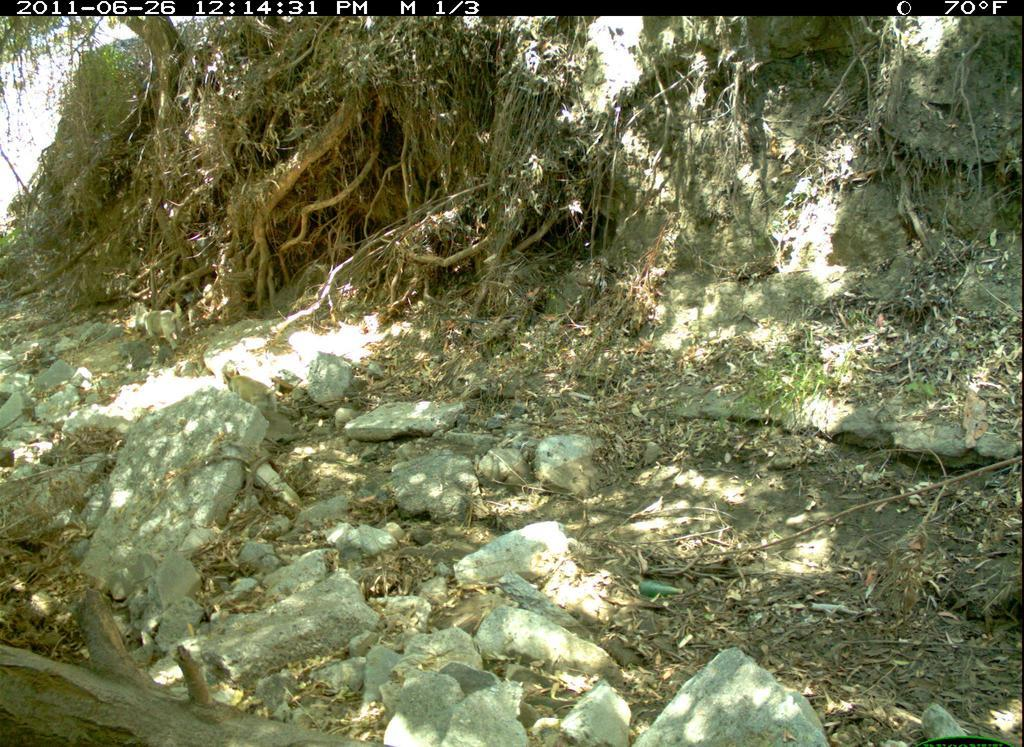dog: (220, 366, 287, 421), (131, 299, 190, 355)
